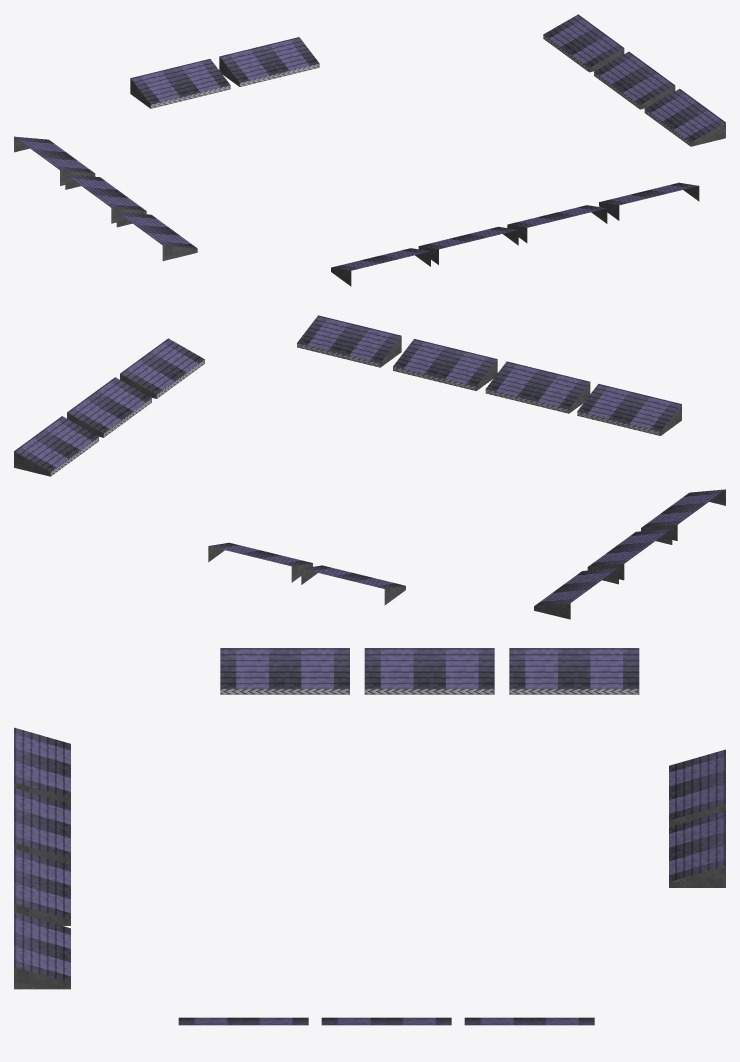
The model's file is stands.dae.
3 views of the same model, one above another, from view 1: azimuth 30°, elevation 25°; view 2: azimuth 150°, elevation 25°; view 3: azimuth 270°, elevation 25° (orthographic). The views are drawn at different scales.
Visible parts, largest first — view 1: stands; view 2: stands; view 3: stands.
Part boxes in pixels (bbox=[...]): stands: bbox=[14, 14, 725, 286]; stands: bbox=[14, 315, 725, 619]; stands: bbox=[14, 648, 725, 1025].
Bounding box in the file's own units: 25.64 × 20.45 × 0.709.
1 material, 1 textured.
